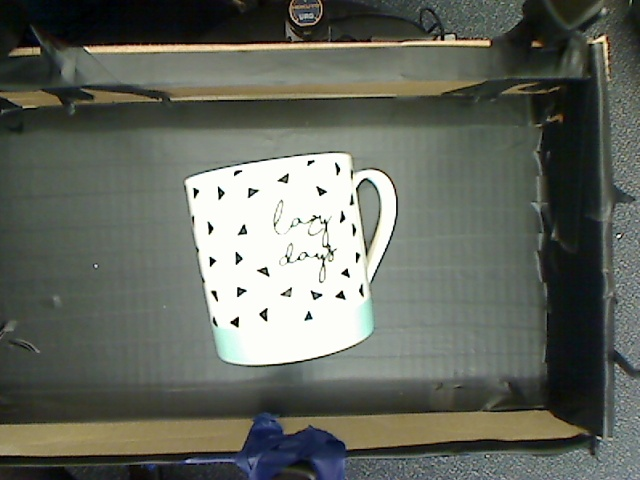mug: (163, 131, 408, 381)
